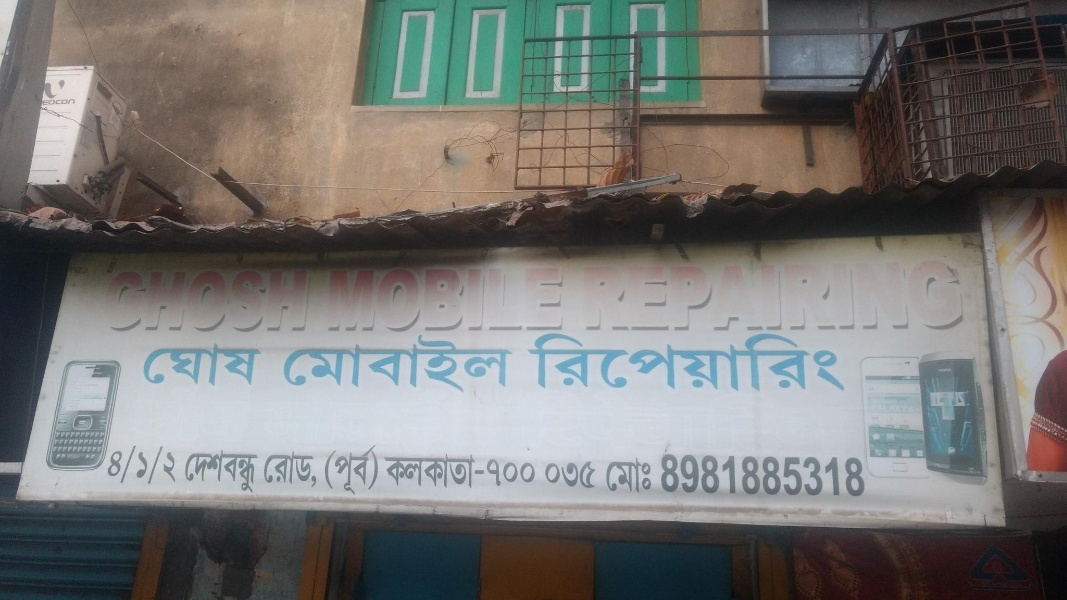text: (593, 253, 608, 335), (609, 253, 624, 335), (625, 253, 640, 335), (641, 253, 656, 335), (657, 253, 672, 335), (673, 253, 688, 335), (689, 253, 704, 335), (705, 253, 720, 335), (721, 253, 736, 335), (737, 253, 752, 335), (753, 253, 768, 335), (769, 253, 784, 335), (785, 253, 800, 335), (801, 253, 816, 335), (817, 253, 832, 335), (833, 253, 848, 335), (849, 253, 864, 335), (865, 253, 880, 335), (881, 253, 896, 335), (897, 253, 912, 335), (913, 253, 928, 335), (929, 253, 944, 335), (945, 253, 960, 335), (961, 253, 976, 335), (113, 261, 128, 332), (129, 261, 144, 332), (145, 261, 160, 332), (161, 261, 176, 332), (177, 261, 192, 332), (193, 261, 208, 332), (209, 261, 224, 332), (225, 261, 240, 332), (241, 261, 256, 332), (257, 261, 272, 332), (273, 261, 288, 332), (289, 261, 304, 332), (337, 264, 352, 335), (353, 264, 368, 335), (369, 264, 384, 335), (385, 264, 400, 335), (401, 264, 416, 335), (417, 264, 432, 335), (433, 264, 448, 335), (449, 264, 464, 335), (465, 264, 480, 335), (481, 264, 496, 335), (497, 264, 512, 335), (513, 264, 528, 335), (529, 264, 544, 335), (545, 264, 560, 335), (529, 326, 544, 393), (545, 326, 560, 393), (561, 326, 576, 393), (577, 326, 592, 393), (593, 326, 608, 393), (609, 326, 624, 393), (625, 326, 640, 393), (641, 326, 656, 393), (657, 326, 672, 393), (673, 326, 688, 393), (689, 326, 704, 393), (705, 326, 720, 393), (721, 326, 736, 393), (737, 326, 752, 393), (753, 326, 768, 393), (769, 326, 784, 393), (785, 326, 800, 393), (801, 326, 816, 393), (817, 326, 832, 393), (833, 326, 848, 393), (289, 335, 304, 394), (305, 335, 320, 394), (321, 335, 336, 394), (337, 335, 352, 394), (353, 335, 368, 394), (369, 335, 384, 394), (385, 335, 400, 394), (401, 335, 416, 394), (417, 335, 432, 394), (433, 335, 448, 394), (449, 335, 464, 394), (465, 335, 480, 394), (481, 335, 496, 394), (497, 335, 512, 394), (337, 438, 352, 496), (353, 438, 368, 496), (322, 438, 336, 496), (305, 261, 316, 332), (583, 253, 592, 335), (673, 453, 688, 498), (689, 453, 704, 498), (705, 453, 720, 498), (721, 453, 736, 498), (737, 453, 752, 498), (753, 453, 768, 498), (769, 453, 784, 498), (785, 453, 800, 498), (801, 453, 816, 498), (817, 453, 832, 498), (833, 453, 848, 498), (849, 453, 864, 498), (193, 451, 208, 494), (209, 451, 224, 494), (225, 451, 240, 494), (241, 451, 256, 494), (145, 344, 160, 387), (161, 344, 176, 387), (177, 344, 192, 387), (193, 344, 208, 387), (209, 344, 224, 387), (225, 344, 240, 387), (241, 344, 256, 387), (369, 438, 380, 496), (113, 442, 128, 484), (129, 442, 144, 484), (145, 442, 160, 484), (161, 442, 176, 484), (385, 453, 400, 491), (401, 453, 416, 491), (417, 453, 432, 491), (433, 453, 448, 491), (449, 453, 464, 491), (465, 453, 480, 491), (561, 264, 569, 335), (609, 457, 624, 494), (625, 457, 640, 494), (273, 453, 288, 489), (289, 453, 304, 489), (305, 453, 320, 489), (660, 453, 672, 498), (545, 457, 560, 491), (561, 457, 576, 491), (577, 457, 592, 491), (329, 264, 336, 335), (497, 456, 512, 487), (513, 456, 528, 487), (641, 457, 653, 494), (484, 456, 496, 487), (262, 453, 272, 489), (529, 456, 538, 487), (186, 451, 192, 494), (481, 453, 487, 491), (257, 451, 262, 494), (109, 261, 112, 332), (525, 326, 528, 393), (865, 453, 869, 498), (257, 344, 261, 387), (604, 457, 608, 494), (593, 457, 597, 491), (881, 405, 896, 414), (897, 405, 912, 414), (49, 99, 64, 107), (513, 335, 515, 394), (881, 398, 896, 405), (65, 99, 76, 107), (110, 442, 112, 484), (177, 442, 179, 484), (977, 253, 978, 335), (913, 405, 922, 414), (382, 453, 384, 491), (872, 405, 880, 414), (871, 398, 880, 405), (287, 335, 288, 394), (143, 344, 144, 387), (43, 99, 48, 107), (945, 369, 953, 372), (937, 369, 944, 372), (897, 398, 898, 405)
